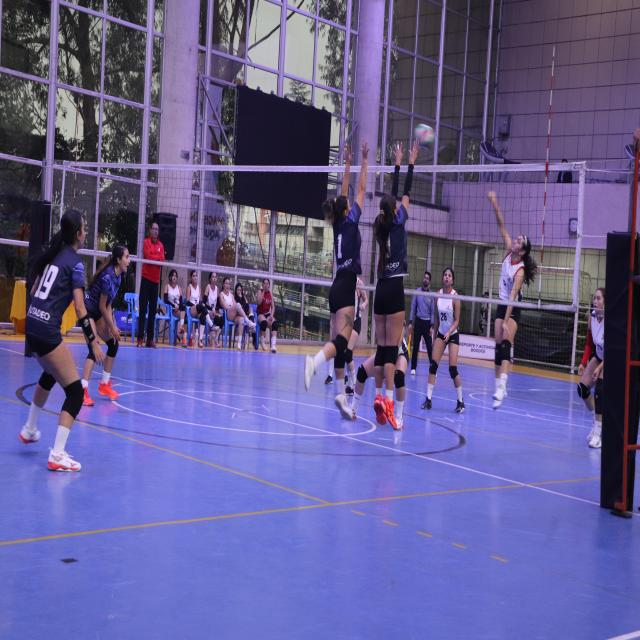volleyball: (413, 122, 437, 150)
